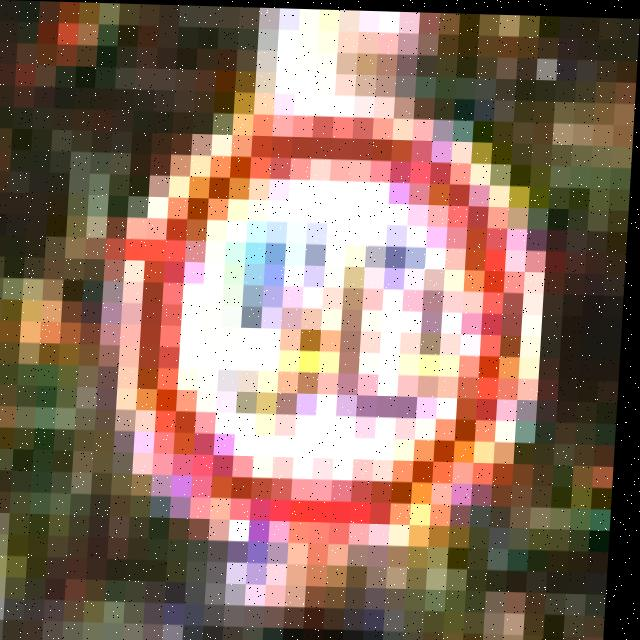speed_limit_50: (79, 102, 611, 580)
